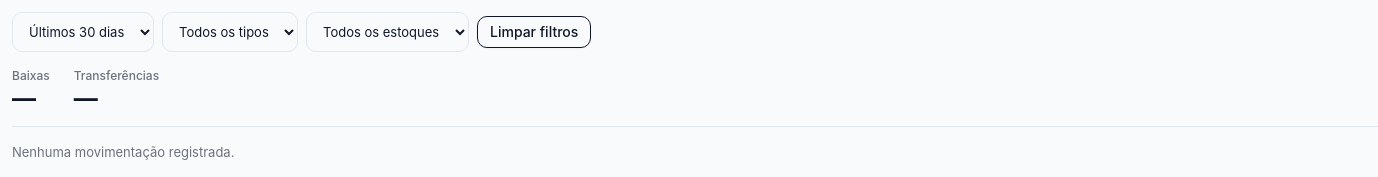
MovimentacoesSection › lista vazia com filtro fora do padrão mostra "Nenhuma movimentação encontrada com esses filtros."
Expected: the text "Nenhuma movimentação registrada." is shown, [12,144,234,160]
Select "Baixa" in the dropdown named "Tipo" at (230, 32), box [162,12,298,52]
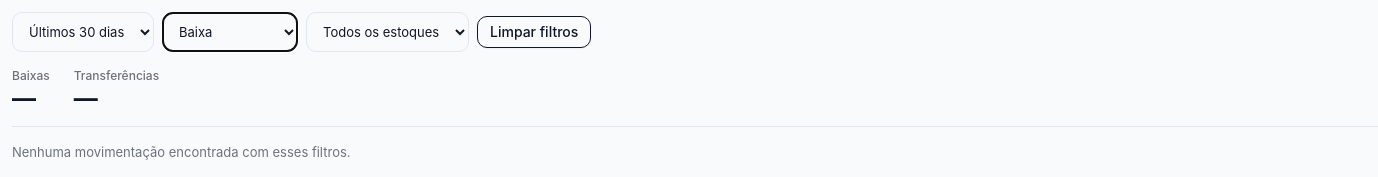
Result: the text "Nenhuma movimentação encontrada com esses filtros." is shown at [12,144,350,160]
Result: the text "Nenhuma movimentação registrada." is gone
